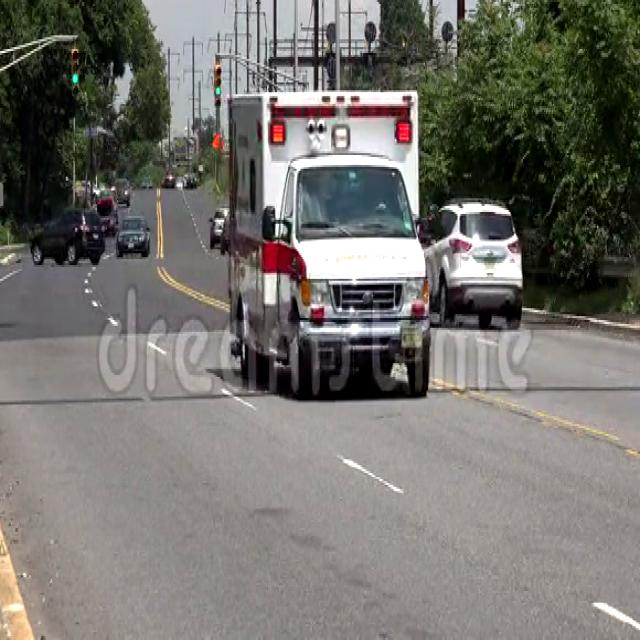ambulance: (227, 90, 434, 398)
